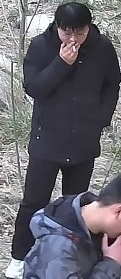smoking: (45, 3, 93, 64)
